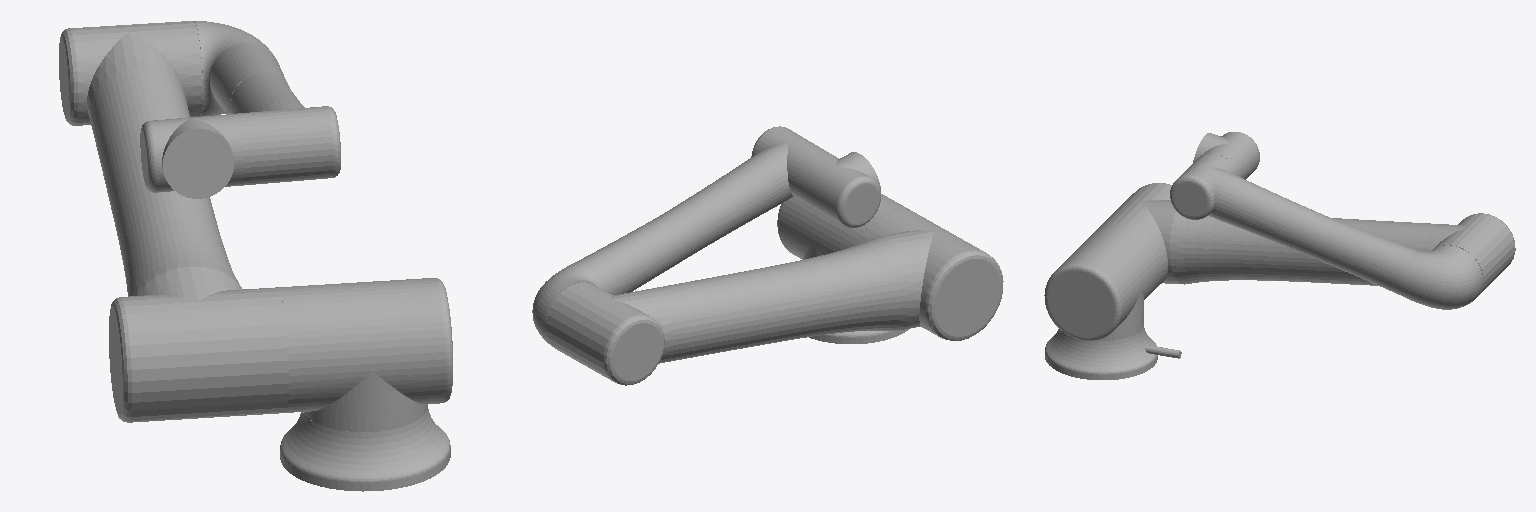
URDF robot description (nag_raj):
<?xml version="1.0" ?>
<!-- =================================================================================== -->
<!-- |    This document was autogenerated by xacro from [local-path]/catkin_ws/src/flipkartGrid/nag_raj_description/urdf/nag_raj.xacro | -->
<!-- |    EDITING THIS FILE BY HAND IS NOT RECOMMENDED                                 | -->
<!-- =================================================================================== -->
<robot name="nag_raj">
    <material name="silver">
        <color rgba="0.700 0.700 0.700 1.000" />
    </material>
    <transmission name="Revolute 1_tran">
        <type>transmission_interface/SimpleTransmission</type>
        <joint name="Revolute 1">
            <hardwareInterface>hardware_interface/EffortJointInterface</hardwareInterface>
        </joint>
        <actuator name="Revolute 1_actr">
            <hardwareInterface>hardware_interface/EffortJointInterface</hardwareInterface>
            <mechanicalReduction>1</mechanicalReduction>
        </actuator>
    </transmission>
    <transmission name="Revolute 2_tran">
        <type>transmission_interface/SimpleTransmission</type>
        <joint name="Revolute 2">
            <hardwareInterface>hardware_interface/EffortJointInterface</hardwareInterface>
        </joint>
        <actuator name="Revolute 2_actr">
            <hardwareInterface>hardware_interface/EffortJointInterface</hardwareInterface>
            <mechanicalReduction>1</mechanicalReduction>
        </actuator>
    </transmission>
    <transmission name="Revolute 3_tran">
        <type>transmission_interface/SimpleTransmission</type>
        <joint name="Revolute 3">
            <hardwareInterface>hardware_interface/EffortJointInterface</hardwareInterface>
        </joint>
        <actuator name="Revolute 3_actr">
            <hardwareInterface>hardware_interface/EffortJointInterface</hardwareInterface>
            <mechanicalReduction>1</mechanicalReduction>
        </actuator>
    </transmission>
    <transmission name="Revolute 4_tran">
        <type>transmission_interface/SimpleTransmission</type>
        <joint name="Revolute 4">
            <hardwareInterface>hardware_interface/EffortJointInterface</hardwareInterface>
        </joint>
        <actuator name="Revolute 4_actr">
            <hardwareInterface>hardware_interface/EffortJointInterface</hardwareInterface>
            <mechanicalReduction>1</mechanicalReduction>
        </actuator>
    </transmission>
    <transmission name="Revolute 5_tran">
        <type>transmission_interface/SimpleTransmission</type>
        <joint name="Revolute 5">
            <hardwareInterface>hardware_interface/EffortJointInterface</hardwareInterface>
        </joint>
        <actuator name="Revolute 5_actr">
            <hardwareInterface>hardware_interface/EffortJointInterface</hardwareInterface>
            <mechanicalReduction>1</mechanicalReduction>
        </actuator>
    </transmission>
    <gazebo>
        <plugin filename="libgazebo_ros_control.so" name="control" />
        <plugin name="gazebo_ros_control">
            <robotNamespace>/</robotNamespace>
        </plugin>
    </gazebo>
    <gazebo reference="base_link">
        <material>Gazebo/Silver</material>
        <mu1>0.2</mu1>
        <mu2>0.2</mu2>
        <selfCollide>true</selfCollide>
        <gravity>true</gravity>
    </gazebo>
    <gazebo reference="sh_joint_1">
        <material>Gazebo/Silver</material>
        <mu1>0.2</mu1>
        <mu2>0.2</mu2>
        <selfCollide>true</selfCollide>
    </gazebo>
    <gazebo reference="shoulder_1">
        <material>Gazebo/Silver</material>
        <mu1>0.2</mu1>
        <mu2>0.2</mu2>
        <selfCollide>true</selfCollide>
    </gazebo>
    <gazebo reference="elbow1_1">
        <material>Gazebo/Silver</material>
        <mu1>0.2</mu1>
        <mu2>0.2</mu2>
        <selfCollide>true</selfCollide>
    </gazebo>
    <gazebo reference="elbow2_1">
        <material>Gazebo/Silver</material>
        <mu1>0.2</mu1>
        <mu2>0.2</mu2>
        <selfCollide>true</selfCollide>
    </gazebo>
    <gazebo reference="wrist_1">
        <material>Gazebo/Silver</material>
        <mu1>0.2</mu1>
        <mu2>0.2</mu2>
        <selfCollide>true</selfCollide>
    </gazebo>
    <link name="base_link">
        <inertial>
            <origin rpy="0 0 0" xyz="-0.0006379139080881657 -0.01809373210164651 0.030365961397063188" />
            <mass value="12.627463545285623" />
            <inertia ixx="0.031143" ixy="-0.000405" ixz="-7e-05" iyy="0.030205" iyz="0.000267" izz="0.052676" />
        </inertial>
        <visual>
            <origin rpy="0 0 0" xyz="0 0 0" />
            <geometry>
                <mesh filename="package://nag_raj_description/meshes/base_link.stl" scale="0.001 0.001 0.001" />
            </geometry>
            <material name="silver" />
        </visual>
        <collision>
            <origin rpy="0 0 0" xyz="0 0 0" />
            <geometry>
                <mesh filename="package://nag_raj_description/meshes/base_link.stl" scale="0.001 0.001 0.001" />
            </geometry>
        </collision>
    </link>
    <link name="sh_joint_1">
        <inertial>
            <origin rpy="0 0 0" xyz="-0.0011960436685277943 0.0013481214024438706 0.07489085893279906" />
            <mass value="29.69776516715868" />
            <inertia ixx="0.099358" ixy="0.016934" ixz="-0.000187" iyy="0.132845" iyz="3.3e-05" izz="0.135929" />
        </inertial>
        <visual>
            <origin rpy="0 0 0" xyz="0.001039 0.018393 -0.067132" />
            <geometry>
                <mesh filename="package://nag_raj_description/meshes/sh_joint_1.stl" scale="0.001 0.001 0.001" />
            </geometry>
            <material name="silver" />
        </visual>
        <collision>
            <origin rpy="0 0 0" xyz="0.001039 0.018393 -0.067132" />
            <geometry>
                <mesh filename="package://nag_raj_description/meshes/sh_joint_1.stl" scale="0.001 0.001 0.001" />
            </geometry>
        </collision>
    </link>
    <link name="shoulder_1">
        <inertial>
            <origin rpy="0 0 0" xyz="0.007821760472450007 0.2778220009300011 0.03125519386875361" />
            <mass value="89.21154259038471" />
            <inertia ixx="4.45732" ixy="-1.710485" ixz="-0.232136" iyy="1.046726" iyz="-0.557906" izz="5.155255" />
        </inertial>
        <visual>
            <origin rpy="0 0 0" xyz="0.093573 -0.021145 -0.146342" />
            <geometry>
                <mesh filename="package://nag_raj_description/meshes/shoulder_1.stl" scale="0.001 0.001 0.001" />
            </geometry>
            <material name="silver" />
        </visual>
        <collision>
            <origin rpy="0 0 0" xyz="0.093573 -0.021145 -0.146342" />
            <geometry>
                <mesh filename="package://nag_raj_description/meshes/shoulder_1.stl" scale="0.001 0.001 0.001" />
            </geometry>
        </collision>
    </link>
    <link name="elbow1_1">
        <inertial>
            <origin rpy="0 0 0" xyz="0.012063915743866088 -0.08935136984735537 0.01819736606366848" />
            <mass value="12.818945015869657" />
            <inertia ixx="0.078237" ixy="-0.01847" ixz="0.004333" iyy="0.022075" iyz="0.01453" izz="0.079476" />
        </inertial>
        <visual>
            <origin rpy="0 0 0" xyz="-0.129699 -0.612043 -0.224144" />
            <geometry>
                <mesh filename="package://nag_raj_description/meshes/elbow1_1.stl" scale="0.001 0.001 0.001" />
            </geometry>
            <material name="silver" />
        </visual>
        <collision>
            <origin rpy="0 0 0" xyz="-0.129699 -0.612043 -0.224144" />
            <geometry>
                <mesh filename="package://nag_raj_description/meshes/elbow1_1.stl" scale="0.001 0.001 0.001" />
            </geometry>
        </collision>
    </link>
    <link name="elbow2_1">
        <inertial>
            <origin rpy="0 0 0" xyz="-0.06172372576999953 -0.1471990074107003 0.039999758385676654" />
            <mass value="14.074723611721877" />
            <inertia ixx="0.09516" ixy="-0.030922" ixz="0.008622" iyy="0.034386" iyz="0.020824" izz="0.105805" />
        </inertial>
        <visual>
            <origin rpy="0 0 0" xyz="-0.092673 -0.388118 -0.275308" />
            <geometry>
                <mesh filename="package://nag_raj_description/meshes/elbow2_1.stl" scale="0.001 0.001 0.001" />
            </geometry>
            <material name="silver" />
        </visual>
        <collision>
            <origin rpy="0 0 0" xyz="-0.092673 -0.388118 -0.275308" />
            <geometry>
                <mesh filename="package://nag_raj_description/meshes/elbow2_1.stl" scale="0.001 0.001 0.001" />
            </geometry>
        </collision>
    </link>
    <link name="wrist_1">
        <inertial>
            <origin rpy="0 0 0" xyz="-0.05432751125838708 0.017695228247820827 -0.0008664628207630809" />
            <mass value="5.82092033198201" />
            <inertia ixx="0.006574" ixy="0.000912" ixz="-5e-05" iyy="0.008357" iyz="0.000122" izz="0.009234" />
        </inertial>
        <visual>
            <origin rpy="0 0 0" xyz="0.055527 -0.184746 -0.334878" />
            <geometry>
                <mesh filename="package://nag_raj_description/meshes/wrist_1.stl" scale="0.001 0.001 0.001" />
            </geometry>
            <material name="silver" />
        </visual>
        <collision>
            <origin rpy="0 0 0" xyz="0.055527 -0.184746 -0.334878" />
            <geometry>
                <mesh filename="package://nag_raj_description/meshes/wrist_1.stl" scale="0.001 0.001 0.001" />
            </geometry>
        </collision>
    </link>
    <joint name="Revolute 1" type="continuous">
        <origin rpy="0 0 0" xyz="-0.001039 -0.018393 0.067132" />
        <parent link="base_link" />
        <child link="sh_joint_1" />
        <axis xyz="-0.0032 0.012661 0.999915" />
    </joint>
    <joint name="Revolute 2" type="continuous">
        <origin rpy="0 0 0" xyz="-0.092534 0.039538 0.07921" />
        <parent link="sh_joint_1" />
        <child link="shoulder_1" />
        <axis xyz="-0.922781 0.385244 -0.007831" />
    </joint>
    <joint name="Revolute 3" type="revolute">
        <origin rpy="0 0 0" xyz="0.223272 0.590898 0.077802" />
        <parent link="shoulder_1" />
        <child link="elbow1_1" />
        <axis xyz="0.922781 -0.385244 0.007831" />
        <limit effort="100" lower="-5.585054" upper="0.0" velocity="100" />
    </joint>
    <joint name="Revolute 4" type="continuous">
        <origin rpy="0 0 0" xyz="-0.037026 -0.223925 0.051164" />
        <parent link="elbow1_1" />
        <child link="elbow2_1" />
        <axis xyz="-0.374756 -0.892561 0.250786" />
    </joint>
    <joint name="Revolute 5" type="continuous">
        <origin rpy="0 0 0" xyz="-0.1482 -0.203372 0.05957" />
        <parent link="elbow2_1" />
        <child link="wrist_1" />
        <axis xyz="-0.924511 0.380059 -0.02887" />
    </joint>
</robot>

--- Facts derived from the render (not from the file) ---
3 views of the same robot in one strip: view 1: azimuth 30°, elevation 25°; view 2: azimuth 150°, elevation 25°; view 3: azimuth 270°, elevation 25° (orthographic).
Model nag_raj with 6 links and 5 joints (1 revolute, 4 continuous), rooted at base_link, posed every joint at zero.
Visible links, largest first — view 1: shoulder_1, sh_joint_1, base_link, elbow2_1, wrist_1, elbow1_1; view 2: shoulder_1, elbow2_1, elbow1_1, wrist_1, sh_joint_1, base_link; view 3: shoulder_1, sh_joint_1, elbow1_1, elbow2_1, base_link, wrist_1.
Boxes of the visible links, x1,y1,x2,y2 form: shoulder_1: [59, 21, 288, 422]; sh_joint_1: [277, 278, 452, 431]; base_link: [280, 409, 450, 491]; elbow2_1: [230, 74, 340, 185]; wrist_1: [140, 114, 244, 198]; elbow1_1: [193, 21, 289, 116]; shoulder_1: [546, 209, 1003, 385]; elbow2_1: [657, 126, 828, 259]; elbow1_1: [532, 218, 684, 346]; wrist_1: [795, 152, 880, 227]; sh_joint_1: [777, 194, 909, 259]; base_link: [809, 329, 908, 343]; shoulder_1: [1097, 183, 1515, 295]; sh_joint_1: [1044, 223, 1162, 340]; elbow1_1: [1319, 220, 1482, 309]; elbow2_1: [1170, 153, 1335, 259]; base_link: [1045, 326, 1181, 379]; wrist_1: [1193, 132, 1259, 179].
Size in the robot's own frame: 0.5115 by 0.8446 by 0.3838 metres.
Meshes: 6 distinct files referenced, 6 mesh visuals loaded (6 binary STL).
